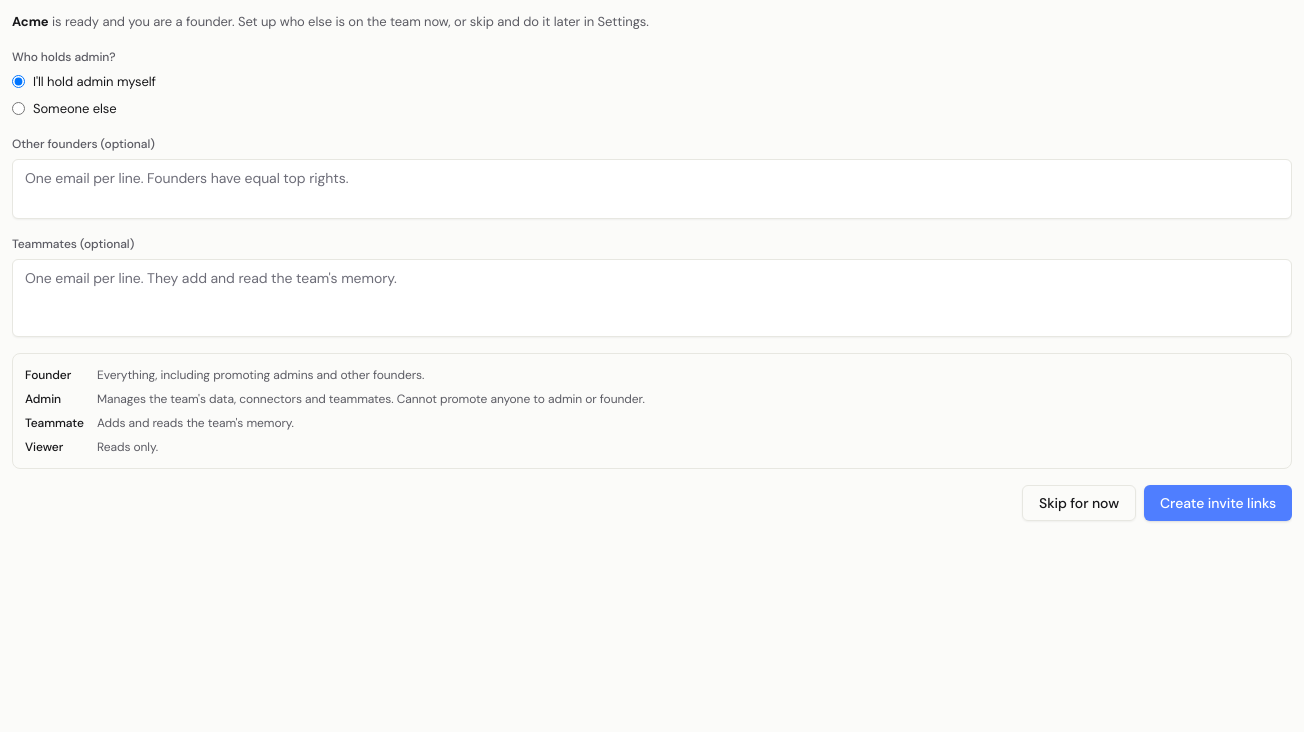
Test: team setup step › holding admin yourself invites nobody as admin
Type "t@x.co" into the text box with test id "setup-teammates" at (652, 298), box x1=12 y1=258 x2=1292 y2=336
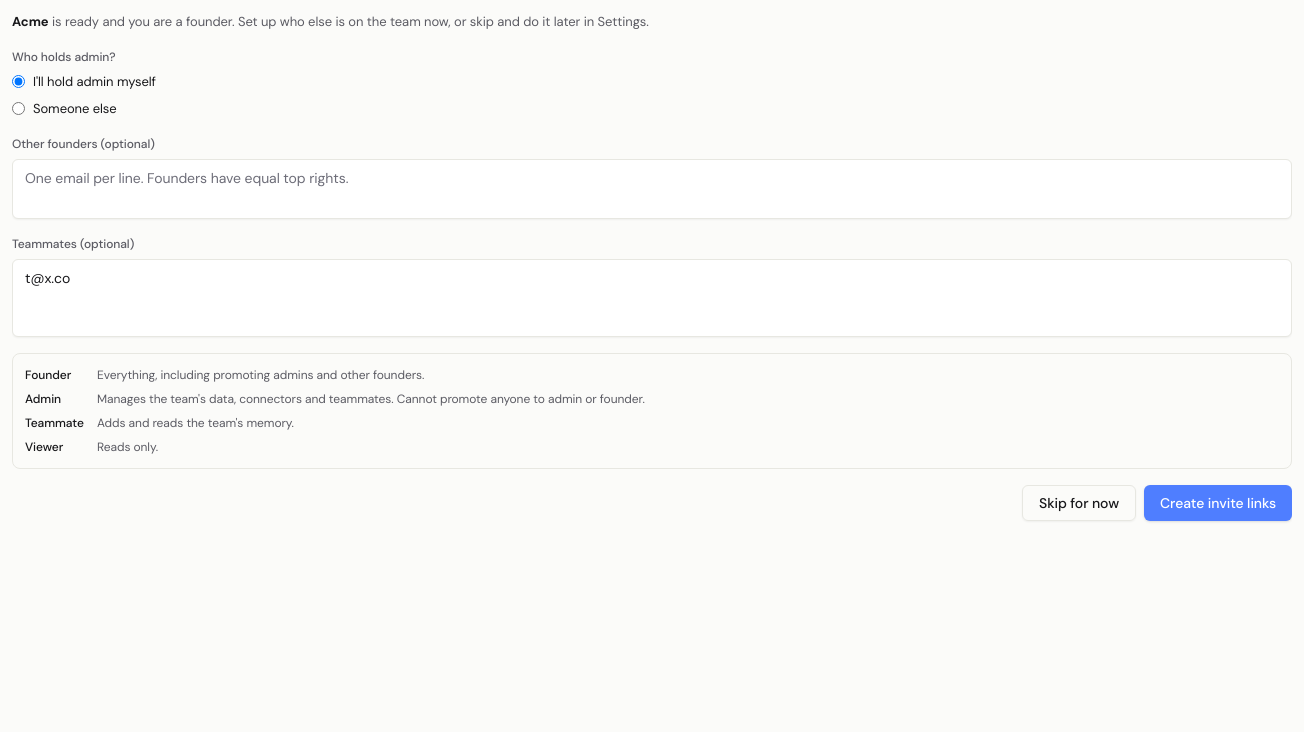
Click the button with test id "team-setup-submit" at (1218, 502), box x1=1144 y1=484 x2=1292 y2=520
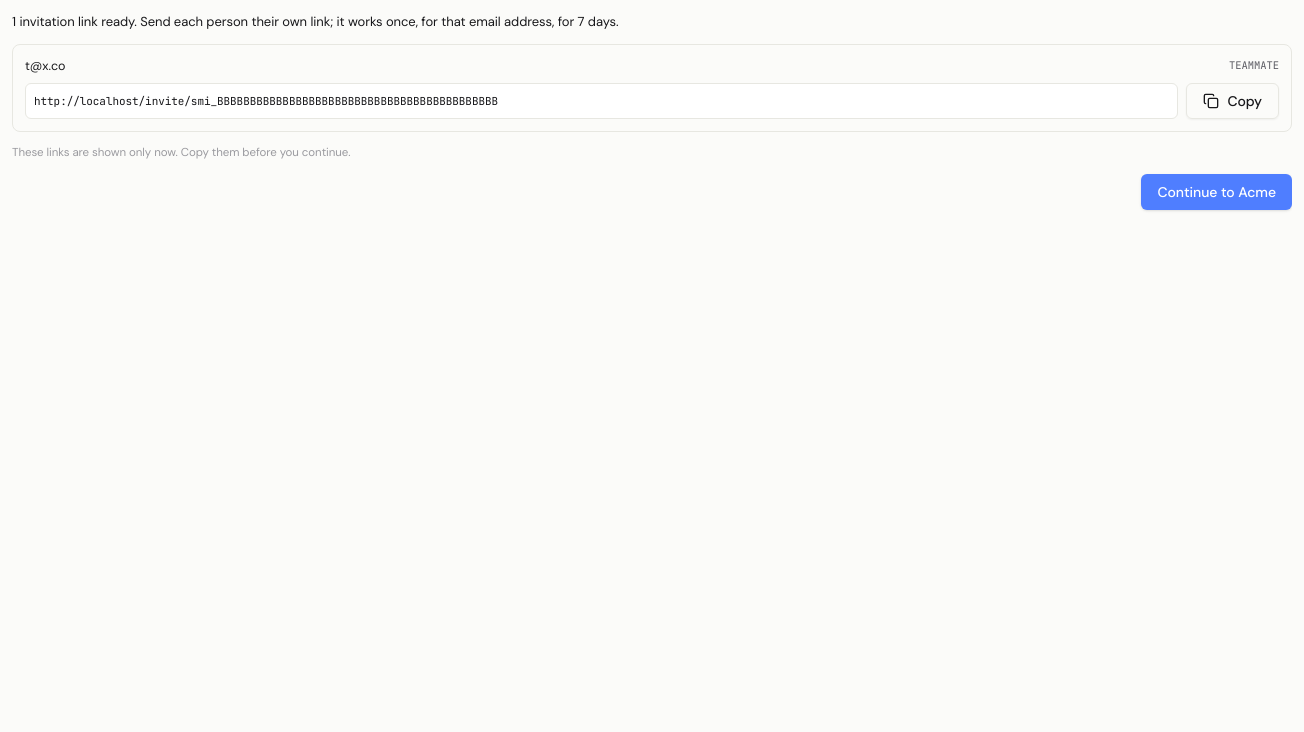
Now the element with test id "team-setup-results" is shown, box x1=12 y1=12 x2=1292 y2=210
